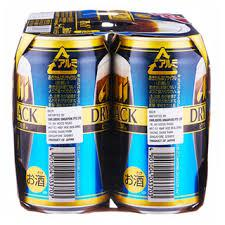beer: (12, 10, 210, 214)
